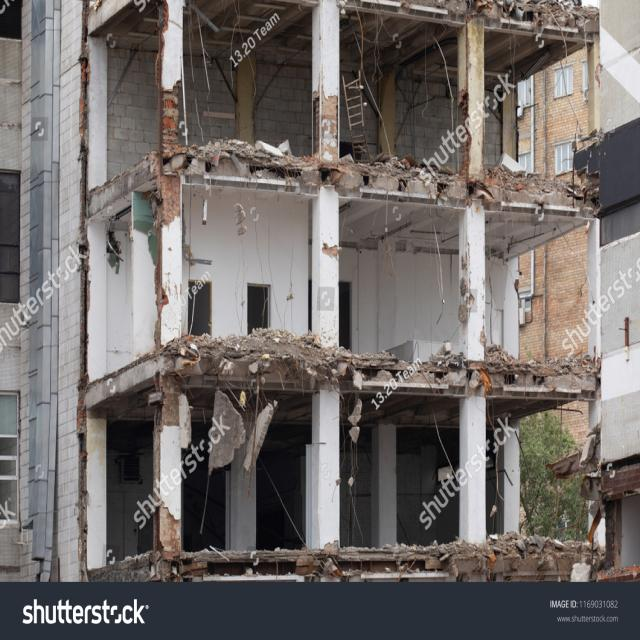Destroyed_building: (3, 0, 640, 581)
